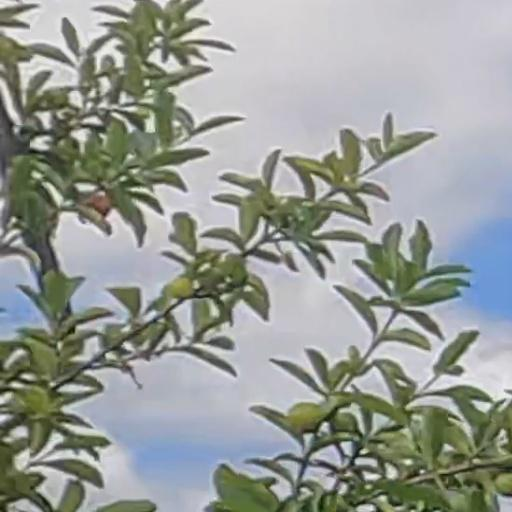acerola_verde: (286, 404, 320, 432)
acerola_vermelha: (91, 197, 112, 215)
